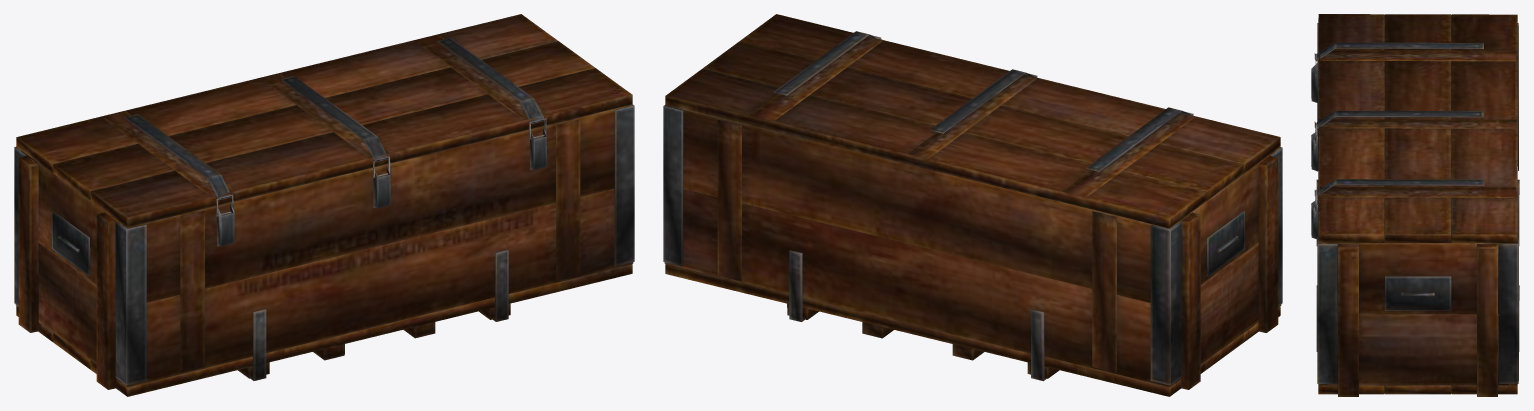
The model's file is wooden_military_crate.glb.
The picture shows the model from 3 angles, left to right: view 1: azimuth 30°, elevation 25°; view 2: azimuth 150°, elevation 25°; view 3: azimuth 270°, elevation 25°; orthographic projection. The views are drawn at different scales.
Parts seen in each view (by area): view 1: wooden_military_crate, wooden_military_crate_lid; view 2: wooden_military_crate, wooden_military_crate_lid; view 3: wooden_military_crate_lid, wooden_military_crate.
Boxes of the visible parts, x1,y1,x2,y2 form: wooden_military_crate: (14, 104, 634, 396); wooden_military_crate_lid: (16, 14, 632, 227); wooden_military_crate: (663, 105, 1282, 396); wooden_military_crate_lid: (665, 14, 1280, 228); wooden_military_crate_lid: (1314, 14, 1517, 243); wooden_military_crate: (1311, 23, 1519, 396).
Bounding box in the file's own units: 1.24 × 0.4639 × 0.4788.
Materials: 1 (1 with a texture image).
